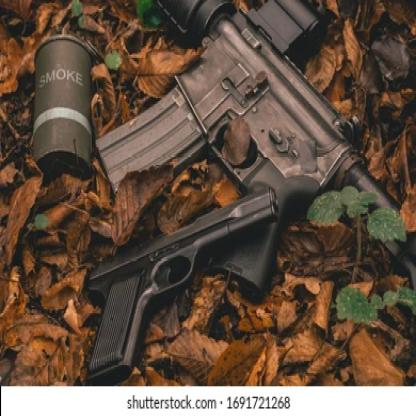Grenade: (31, 26, 93, 181)
Gun: (92, 0, 416, 306)
Pistol: (82, 182, 280, 382)
